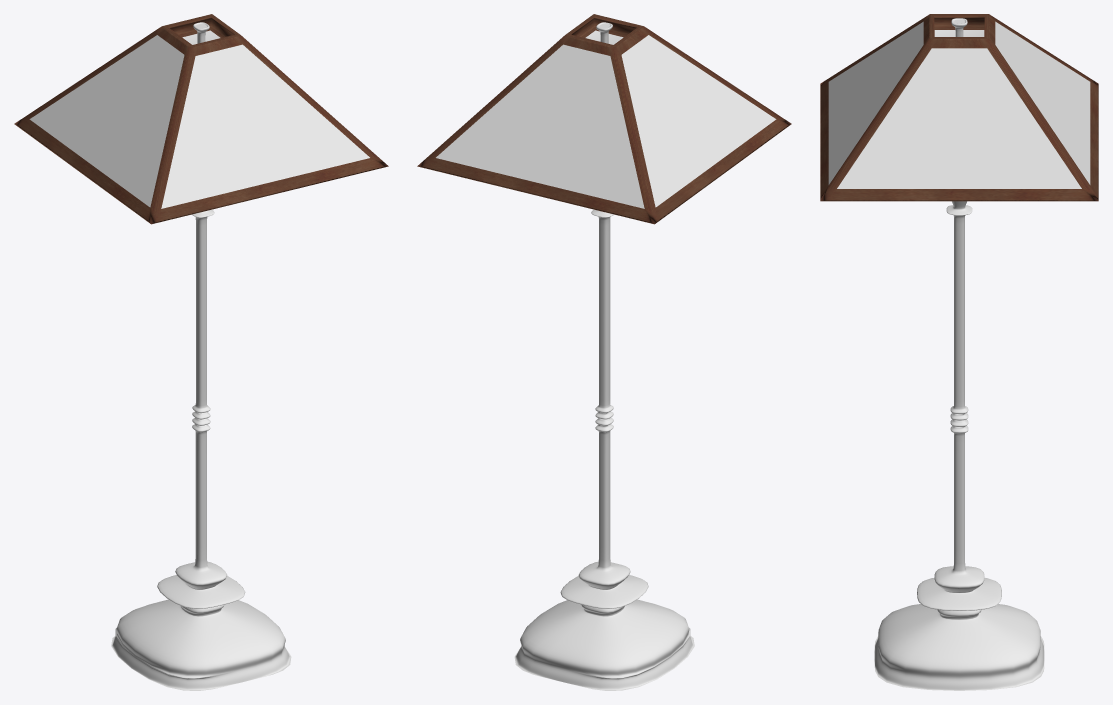
The model's file is Lamp.fbx.
The picture shows the model from 3 angles, left to right: view 1: azimuth 30°, elevation 25°; view 2: azimuth 150°, elevation 25°; view 3: azimuth 270°, elevation 25°; orthographic projection.
Parts seen in each view (by area): view 1: Lamp Top, Lamp; view 2: Lamp Top, Lamp; view 3: Lamp Top, Lamp.
Part boxes in pixels (x1,y1,x2,y2): Lamp Top: (14, 14, 388, 224); Lamp: (111, 22, 291, 690); Lamp Top: (417, 14, 791, 224); Lamp: (514, 22, 694, 690); Lamp Top: (820, 14, 1098, 201); Lamp: (874, 18, 1044, 690).
Bounding box in the file's own units: 295 × 743 × 295.
